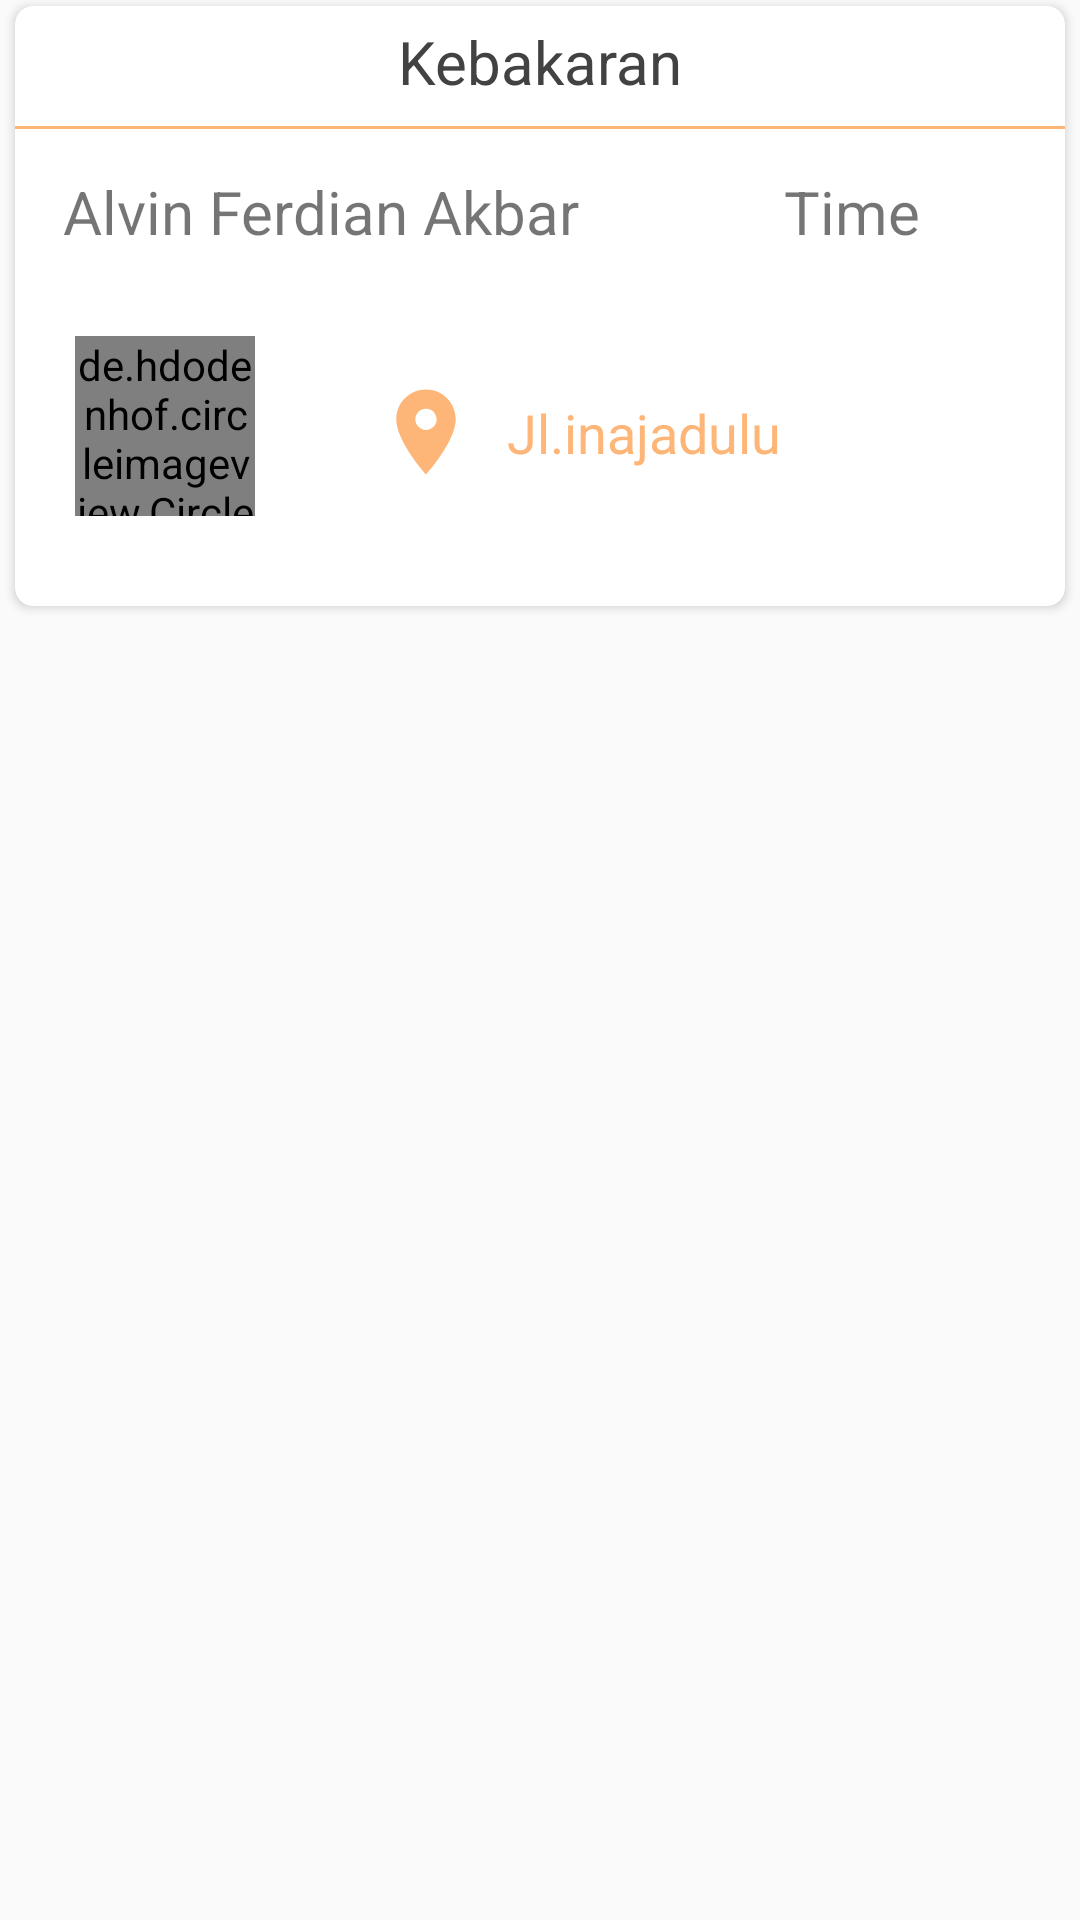

Where to tap for icons on this 1080×1920 app screen, as [x,y]:
location on: [426,431]
